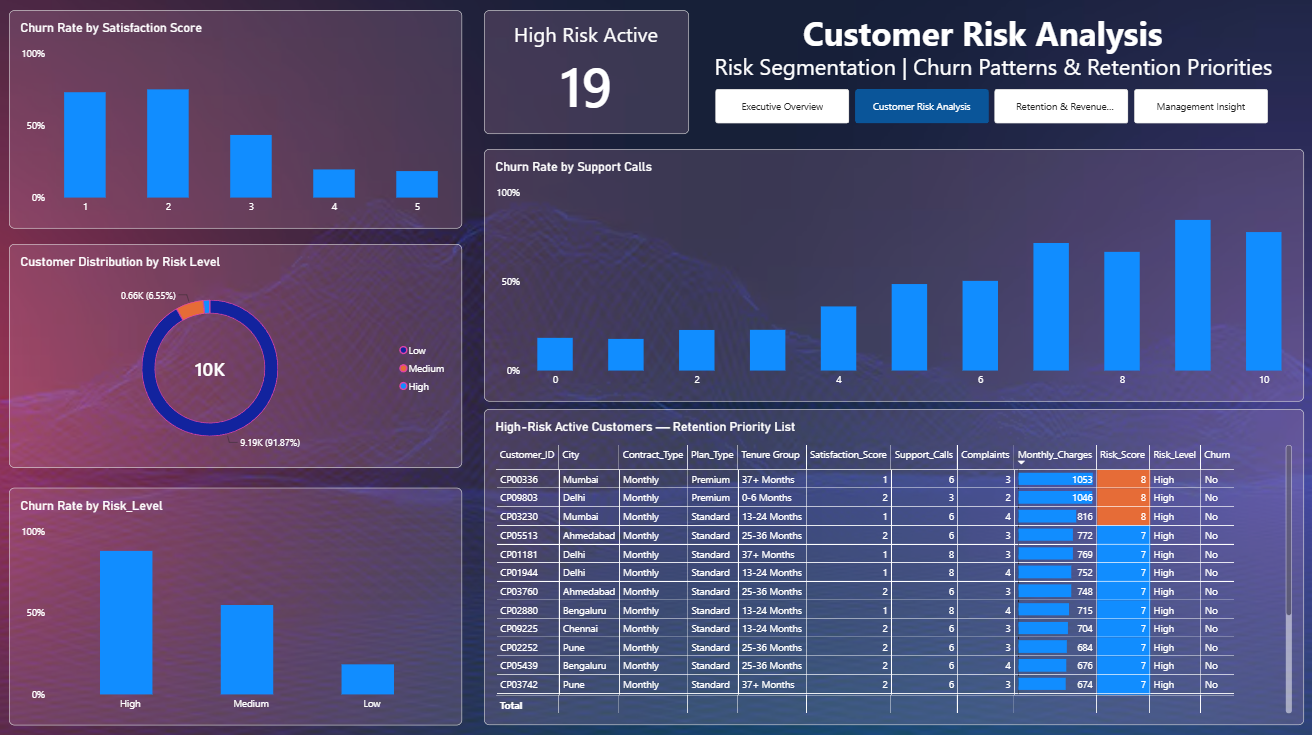

What the dashboard file says about the page in this screenshot:
{"tool":"powerbi","page":{"name":"Customer Risk Analysis","canvas":[1920,1080],"ordinal":1},"visuals":[{"type":"donutChart","title":"Customer Distribution by Risk Level","fields":{"Category":["Cleaned_Customer_Data 1.Risk_Level"],"Y":["CountNonNull(Cleaned_Customer_Data 1.Customer_ID)"]},"box":[21.7,361.9,656,324],"z":0},{"type":"clusteredColumnChart","fields":{"Y":["Cleaned_Customer_Data 1.Churn Rate"],"Category":["Cleaned_Customer_Data 1.Risk_Level"]},"box":[21.7,714.8,656,344],"z":1000},{"type":"clusteredColumnChart","title":"Churn Rate by Support Calls","fields":{"Category":["Cleaned_Customer_Data 1.Support_Calls"],"Y":["Cleaned_Customer_Data 1.Churn Rate"]},"box":[709.4,224.4,1187.1,365.6],"z":2000},{"type":"clusteredColumnChart","title":"Churn Rate by Satisfaction Score","fields":{"Category":["Cleaned_Customer_Data 1.Satisfaction_Score"],"Y":["Cleaned_Customer_Data 1.Churn Rate"]},"box":[21.7,23.5,656,316],"z":3000},{"type":"tableEx","title":"High-Risk Active Customers — Retention Priority List","fields":{"Values":["Cleaned_Customer_Data 1.Customer_ID","Cleaned_Customer_Data 1.City","Cleaned_Customer_Data 1.Contract_Type","Cleaned_Customer_Data 1.Plan_Type","Cleaned_Customer_Data 1.Tenure Group","Cleaned_Customer_Data 1.Satisfaction_Score","Cleaned_Customer_Data 1.Support_Calls","Cleaned_Customer_Data 1.Complaints","Cleaned_Customer_Data 1.Monthly_Charges","Cleaned_Customer_Data 1.Risk_Score","Cleaned_Customer_Data 1.Risk_Level","Cleaned_Customer_Data 1.Churn"]},"box":[709.4,600.8,1187.1,457.8],"z":4000},{"type":"cardVisual","fields":{"Data":["Cleaned_Customer_Data 1.High Risk Active"]},"box":[709.4,23.5,296.8,179.2],"z":5000},{"type":"textbox","box":[1166.1,23.5,532,76],"z":6000},{"type":"textbox","box":[1025,83.2,845.1,56.1],"z":7000},{"type":"pageNavigator","box":[1044,138,800,50],"z":8000}]}

Visuals, with their boxes in screenshot pixels (x1, y1, x2, y2), scaled from the page's 1920x1080 canvas onto the 1312x735 screenshot:
"Customer Distribution by Risk Level" donutChart: BBox(15, 246, 463, 467)
clusteredColumnChart - Cleaned_Customer_Data 1.Churn Rate x Cleaned_Customer_Data 1.Risk_Level: BBox(15, 486, 463, 721)
"Churn Rate by Support Calls" clusteredColumnChart: BBox(485, 153, 1296, 402)
"Churn Rate by Satisfaction Score" clusteredColumnChart: BBox(15, 16, 463, 231)
"High-Risk Active Customers — Retention Priority List" tableEx: BBox(485, 409, 1296, 720)
cardVisual - Cleaned_Customer_Data 1.High Risk Active: BBox(485, 16, 688, 138)
textbox: BBox(797, 16, 1160, 68)
textbox: BBox(700, 57, 1278, 95)
pageNavigator: BBox(713, 94, 1260, 128)
